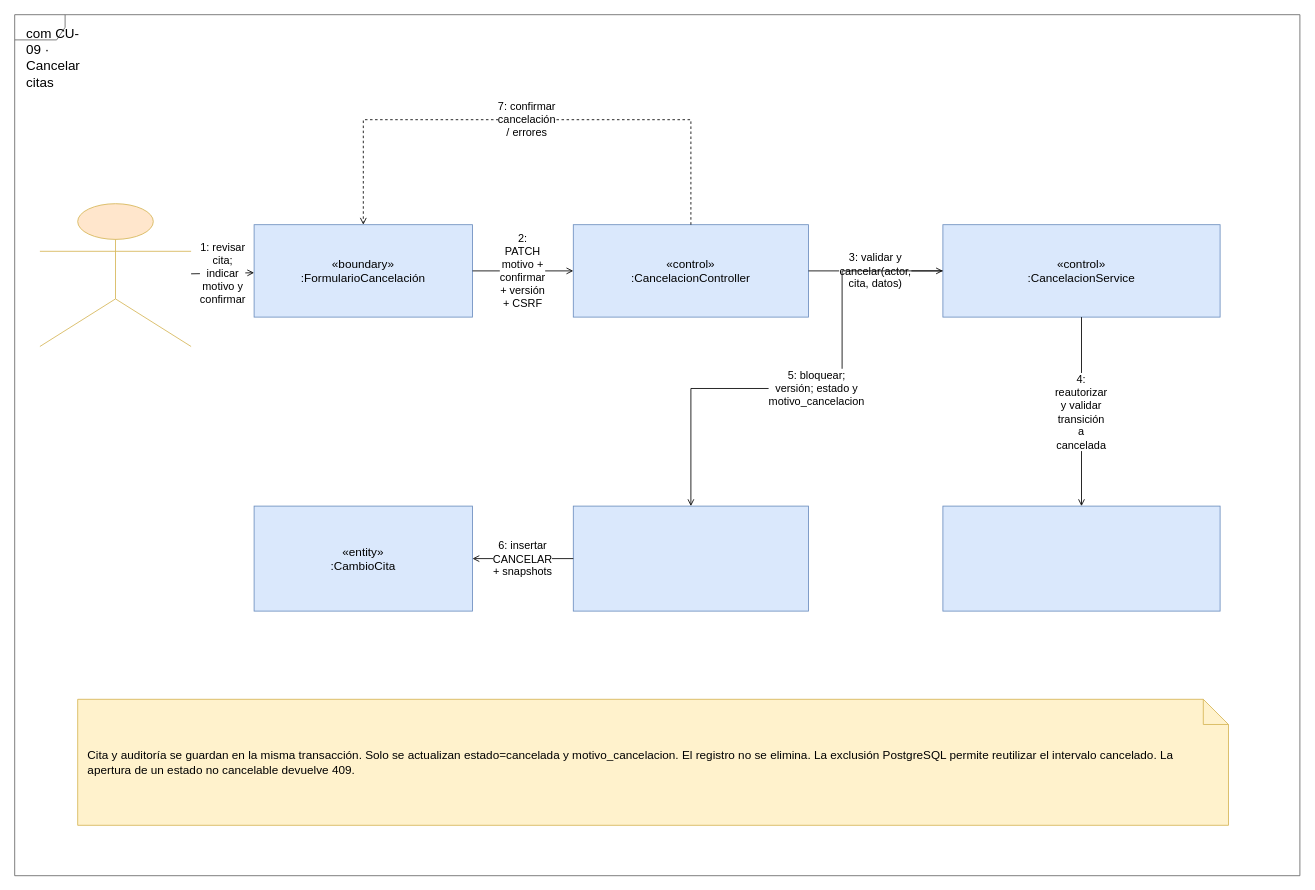
The diagram is 1315 pixels wide and 890 high, and some of its shapes have lost their labels. The shapes that lost their labels are listed below. From the top down, each one's centre as x and y in pixels, then its label:
the point at 115,274: Recepción / Administrador
the point at 690,558: «entity» :CitaMedica
the point at 1081,558: «control» :CitaWorkflow
